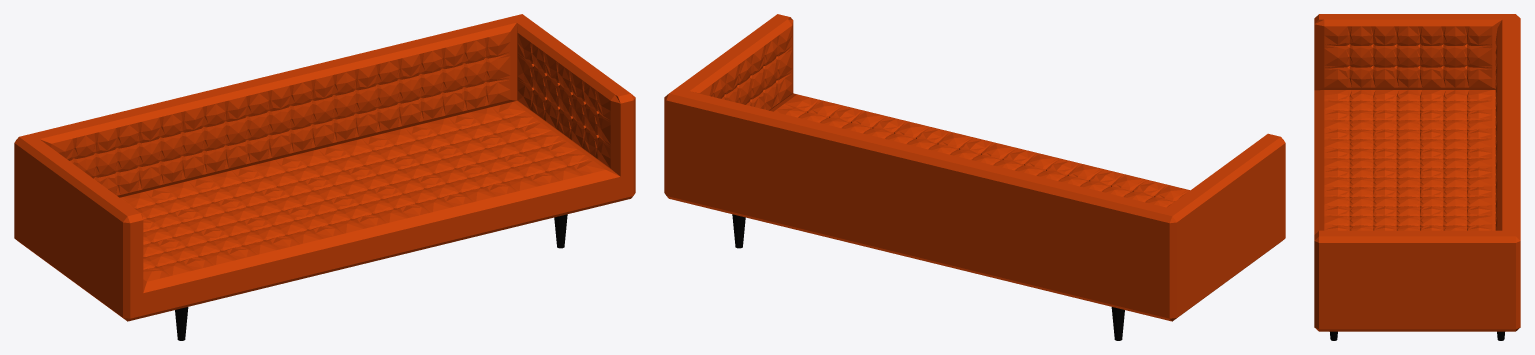
The model's file is mid-century-bench-sofa.obj.
The picture shows the model from 3 angles, left to right: view 1: azimuth 30°, elevation 25°; view 2: azimuth 150°, elevation 25°; view 3: azimuth 270°, elevation 25°; orthographic projection. The views are drawn at different scales.
Parts seen in each view (by area): view 1: sofa, sofa_legs; view 2: sofa, sofa_legs; view 3: sofa.
Boxes of the visible parts, x1,y1,x2,y2 form: sofa: (14, 14, 635, 321); sofa_legs: (175, 214, 567, 340); sofa: (664, 14, 1285, 321); sofa_legs: (732, 214, 1124, 340); sofa: (1314, 14, 1520, 331).
Size of the model in its own units: 14.63 by 3.93 by 5.63.
